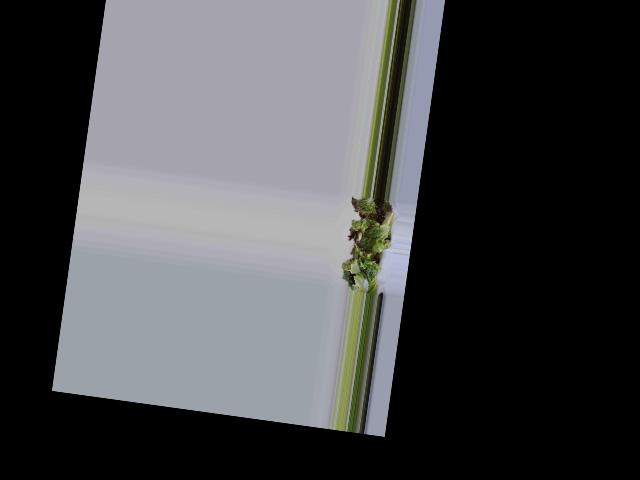lettuce: (343, 198, 390, 289)
